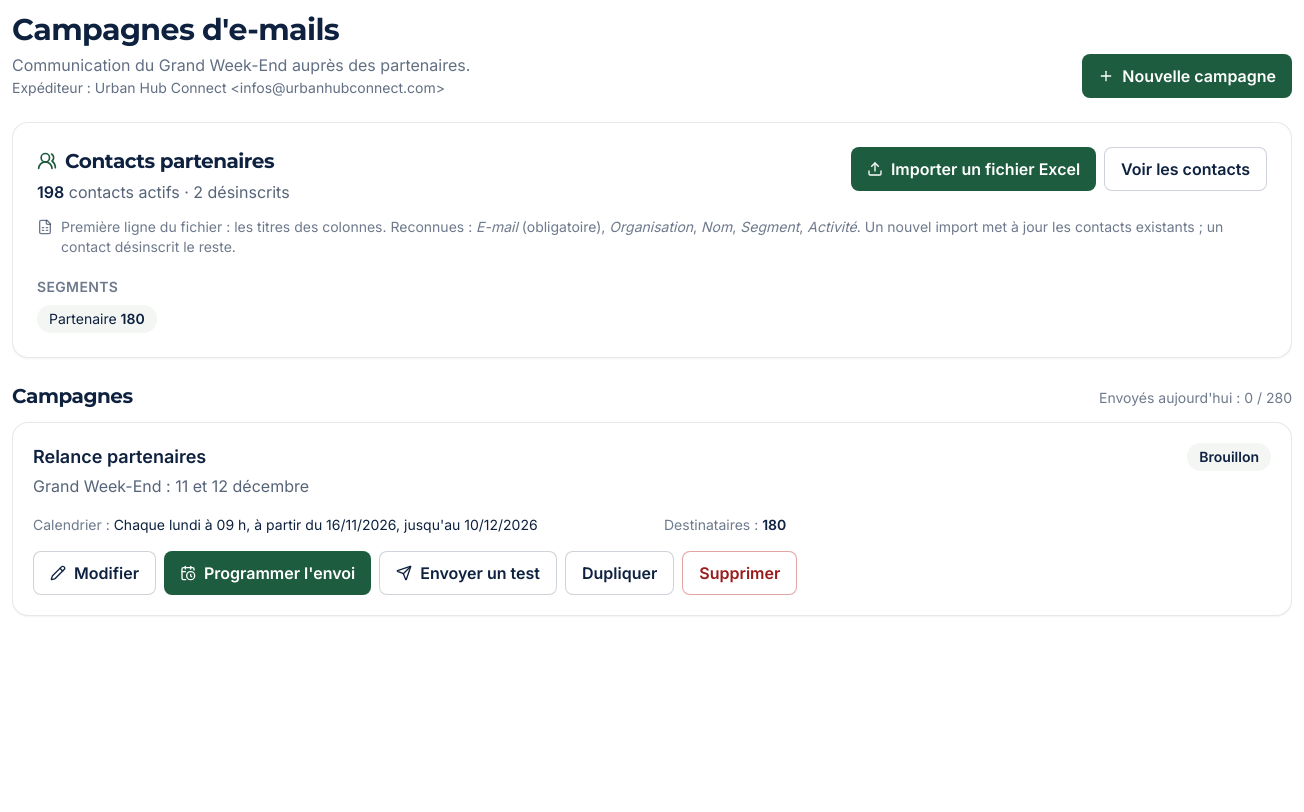
Campagnes d'e-mails › demande confirmation avant de programmer l'envoi
Click the button "Programmer l'envoi": (268, 573) [164,551,371,595]
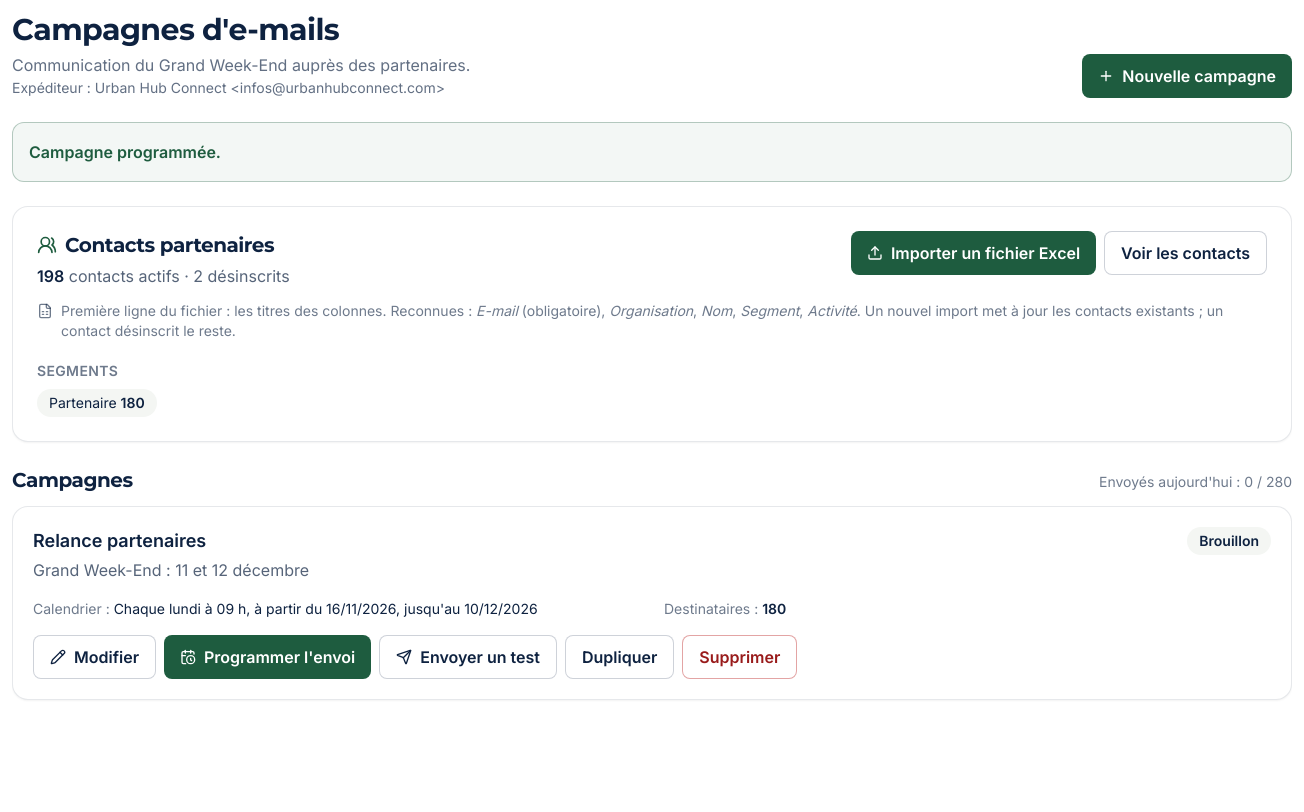
Now the text "Campagne programmée." is shown, box [12,122,1292,182]
